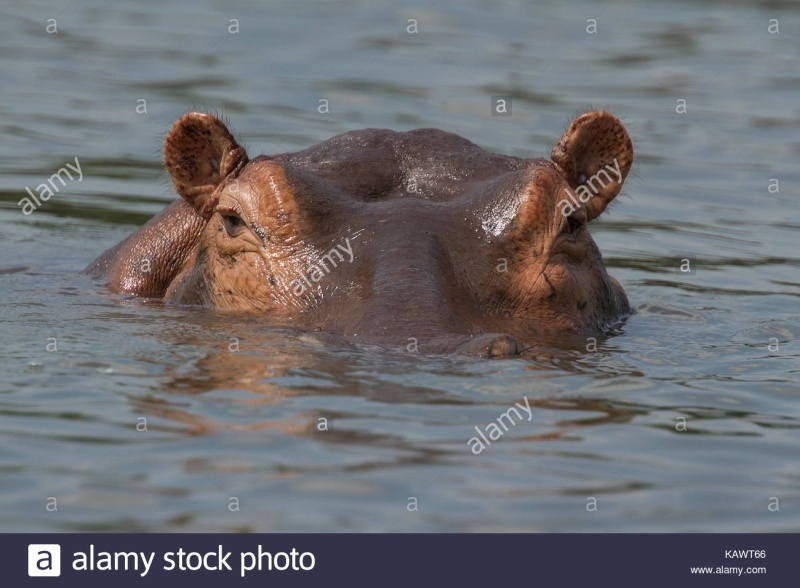hipopotamo: (61, 101, 666, 386)
